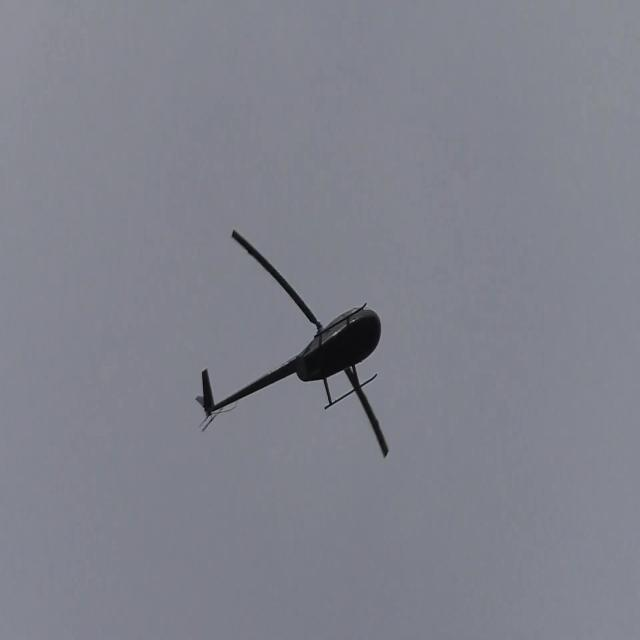CIV_HELO: (195, 302, 383, 424)
